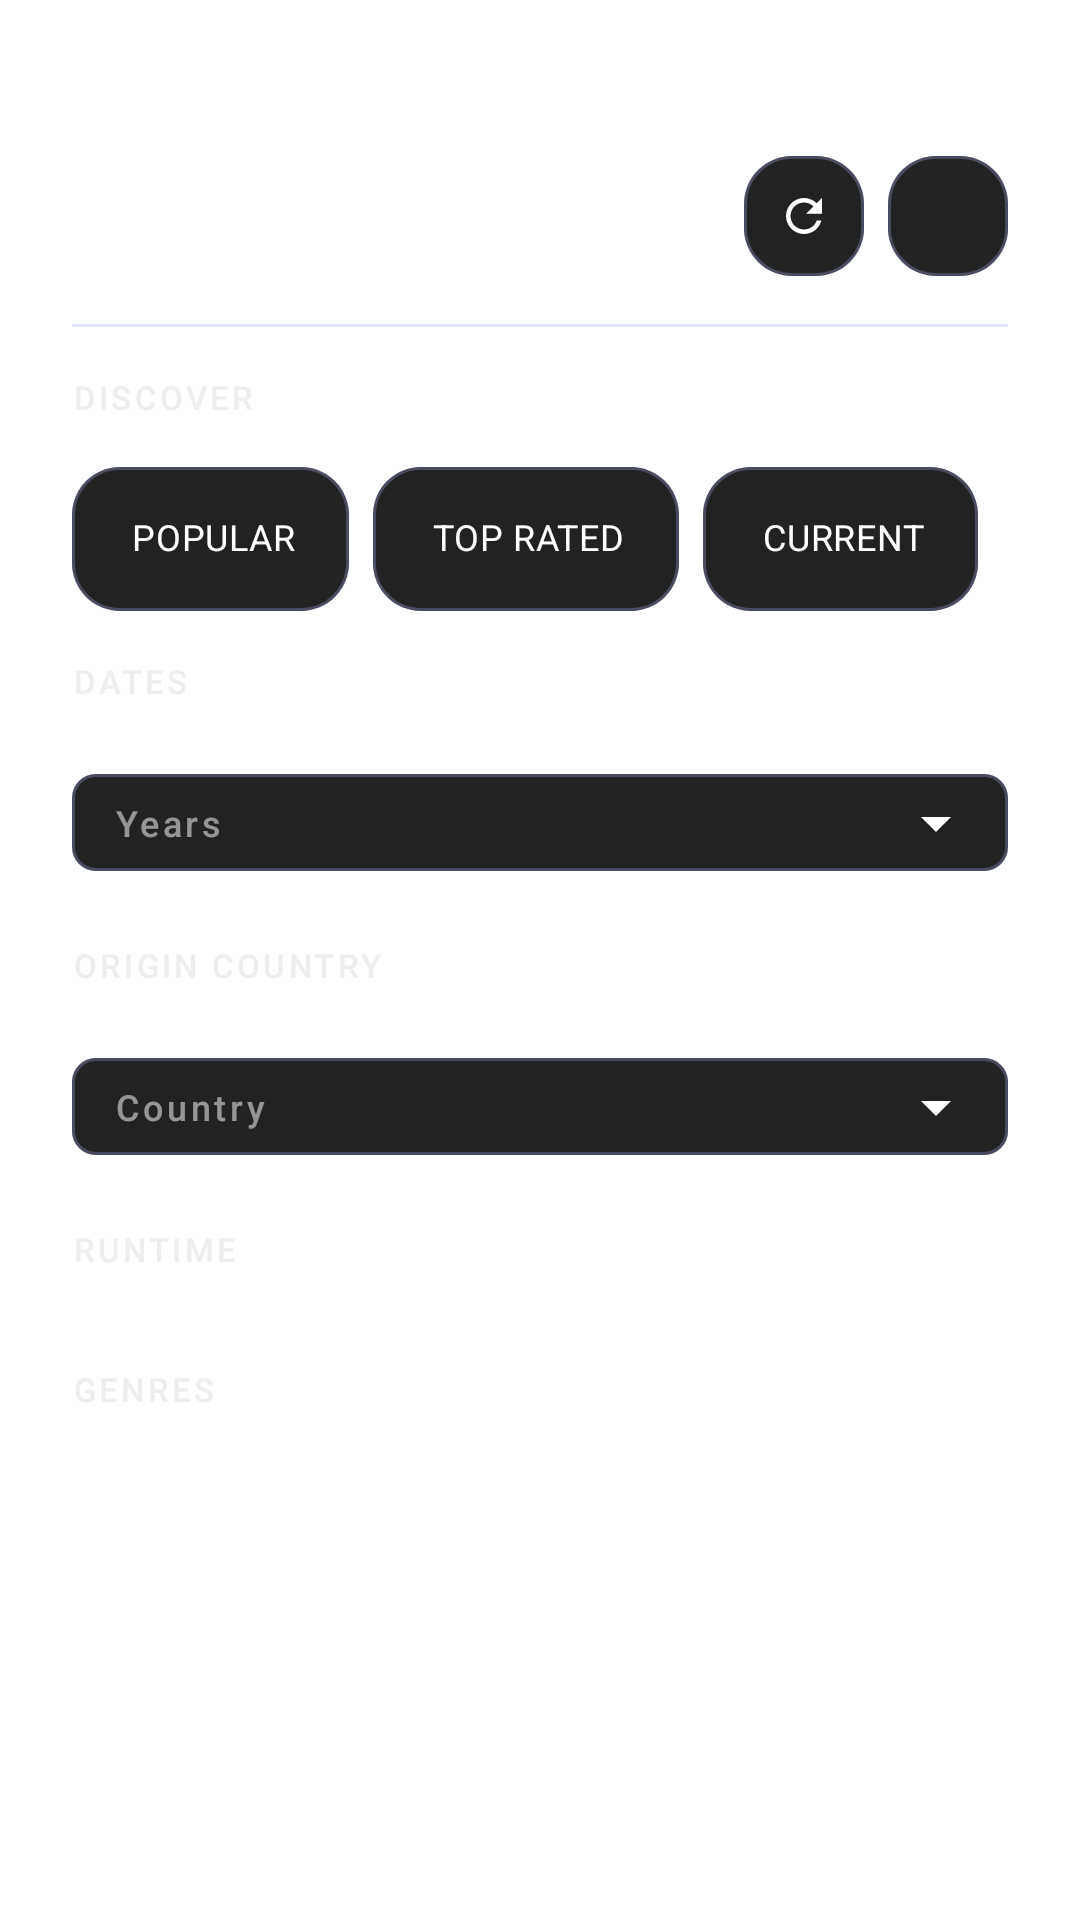

Locate icon controls on the screen. Image size 1080*1920, boxes as rect(x1, y1, x2, y2).
reset: rect(744, 156, 864, 276)
